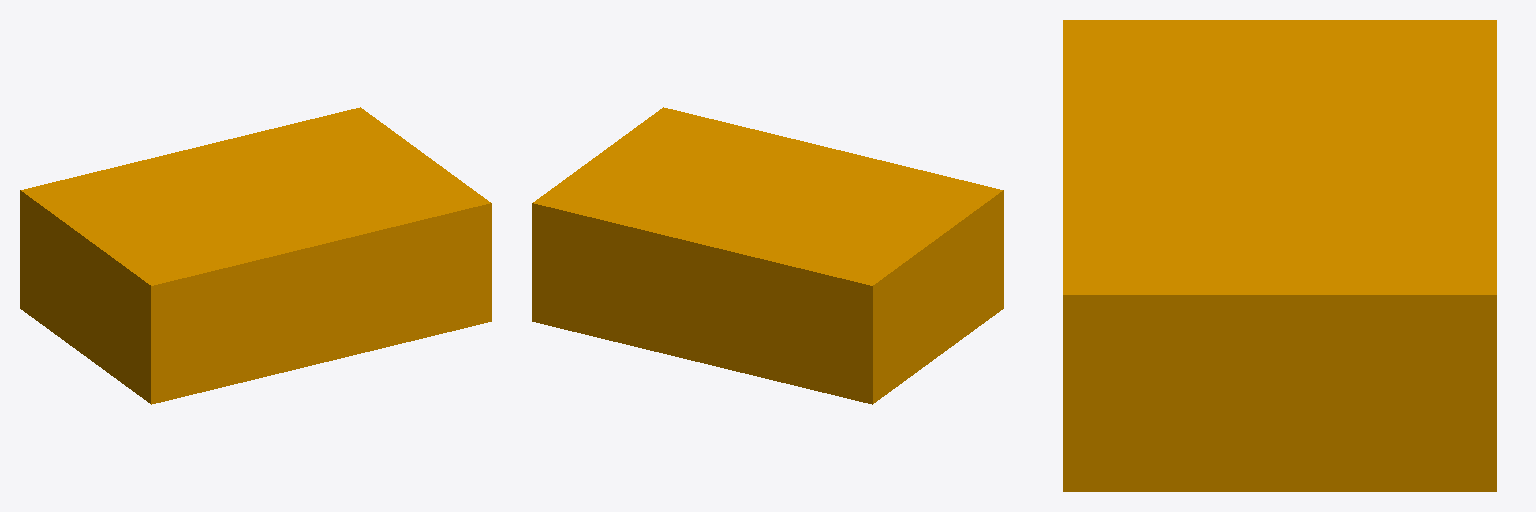
robot.urdf — object:
<?xml version="0.0"?>
	<robot name="object">
		<link name="object">
			<visual>
				<origin xyz="0 0 0"/>
				<geometry>
					<box size="0.6 0.4 0.2"/>
				</geometry>
			</visual>
			<inertial>
				<mass value="4.800"/>
			</inertial>
			<collision>
				<origin xyz="0 0 0"/>
				<geometry>
					<box size="0.6 0.4 0.2"/>
				</geometry>
			</collision>
		</link>

	</robot>

--- What the picture shows (computed from the rendered views, not written in the file) ---
3 views of the same robot in one strip: view 1: azimuth 30°, elevation 25°; view 2: azimuth 150°, elevation 25°; view 3: azimuth 270°, elevation 25° (orthographic).
Model object with 1 links and 0 joints (none), rooted at object, posed all joints at 0.
Visible links, largest first — view 1: object; view 2: object; view 3: object.
Boxes of the visible links, left/top/right/bottom form: object: left=20, top=107, right=491, bottom=404; object: left=532, top=107, right=1003, bottom=404; object: left=1063, top=20, right=1496, bottom=491.
Size in the robot's own frame: 0.6 by 0.4 by 0.2 metres.
Geometry: primitives only (box / cylinder / sphere), no mesh files.